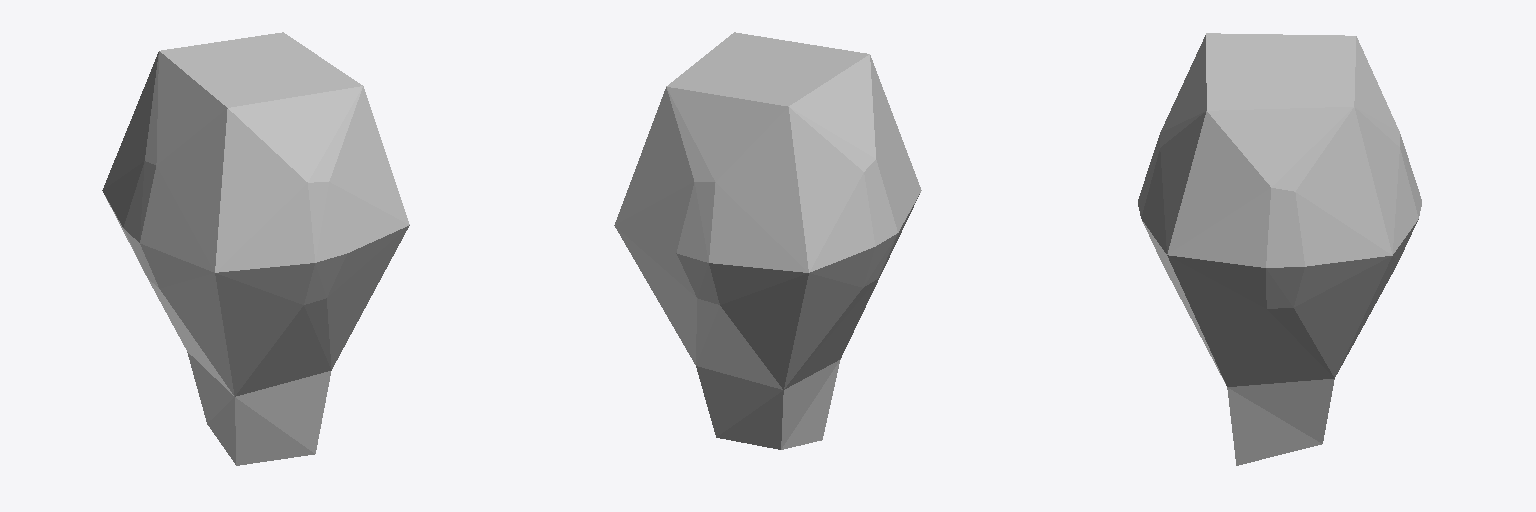
Rendered from hitbox.obj.
3 renders of one model, left to right at view 1: azimuth 30°, elevation 25°; view 2: azimuth 150°, elevation 25°; view 3: azimuth 270°, elevation 25°, orthographic.
Visible parts, largest first — view 1: Culot; view 2: Culot; view 3: Culot.
Part boxes in pixels (bbox=[...]): Culot: bbox=[102, 32, 409, 465]; Culot: bbox=[614, 32, 921, 449]; Culot: bbox=[1138, 33, 1421, 465].
Bounding box in the file's own units: 0.0979 × 0.1455 × 0.0981.